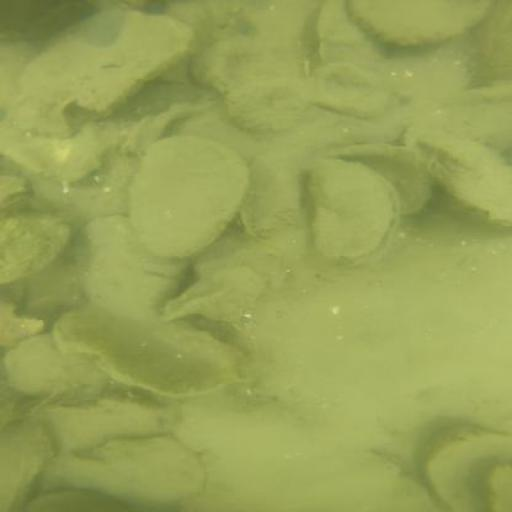Oyster-Closed: (130, 135, 247, 257), (73, 218, 178, 322), (47, 439, 207, 507), (411, 138, 508, 227), (311, 160, 393, 264), (192, 34, 305, 92), (347, 1, 490, 46), (48, 401, 174, 451), (3, 337, 105, 396), (1, 212, 70, 284), (228, 77, 310, 133), (308, 65, 389, 117), (7, 423, 51, 509), (320, 4, 378, 64), (27, 489, 130, 512)
Oyster-Open: (13, 13, 194, 135), (160, 316, 254, 369)
